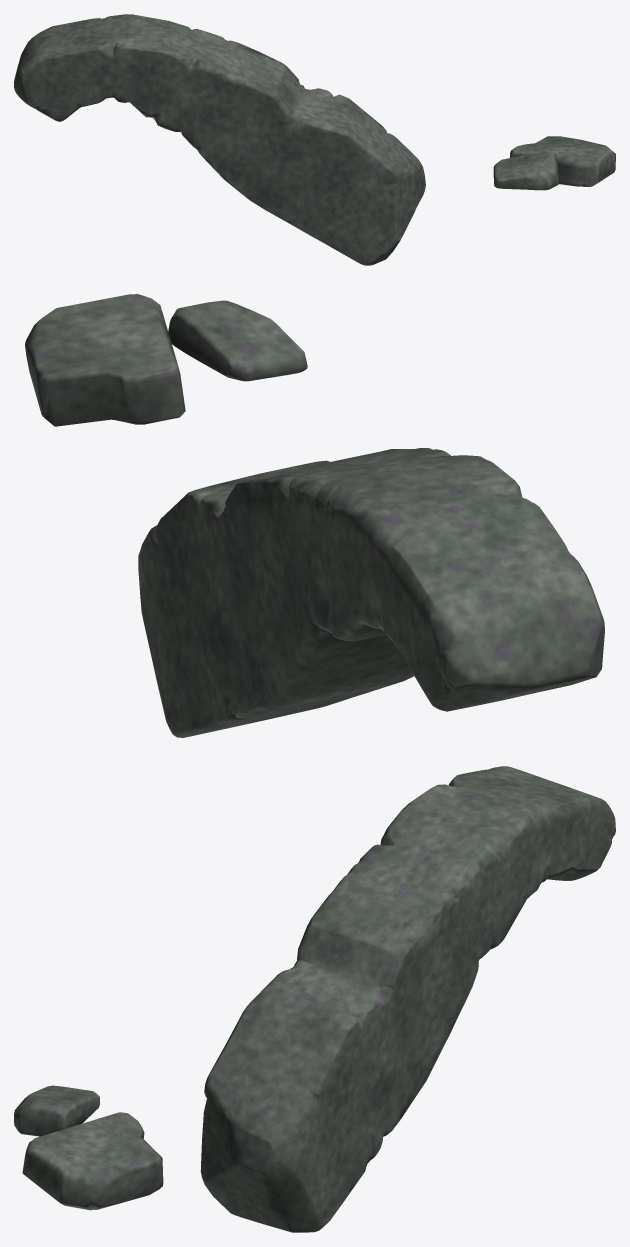
File: caos_stl_rubble_01a_v35.glb
3 renders of one model, top to bottom at view 1: azimuth 30°, elevation 25°; view 2: azimuth 150°, elevation 25°; view 3: azimuth 270°, elevation 25°, orthographic. The views are drawn at different scales.
Parts seen in each view (by area): view 1: caos_stl_rubble_01a; view 2: caos_stl_rubble_01a; view 3: caos_stl_rubble_01a.
Boxes of the visible parts, box(x1,y1,x2,y2) form: caos_stl_rubble_01a: box(14, 14, 615, 265); caos_stl_rubble_01a: box(25, 294, 604, 737); caos_stl_rubble_01a: box(14, 766, 615, 1232).
Bounding box in the file's own units: 13.13 × 6 × 10.91.
Materials: 1 (1 with a texture image).
